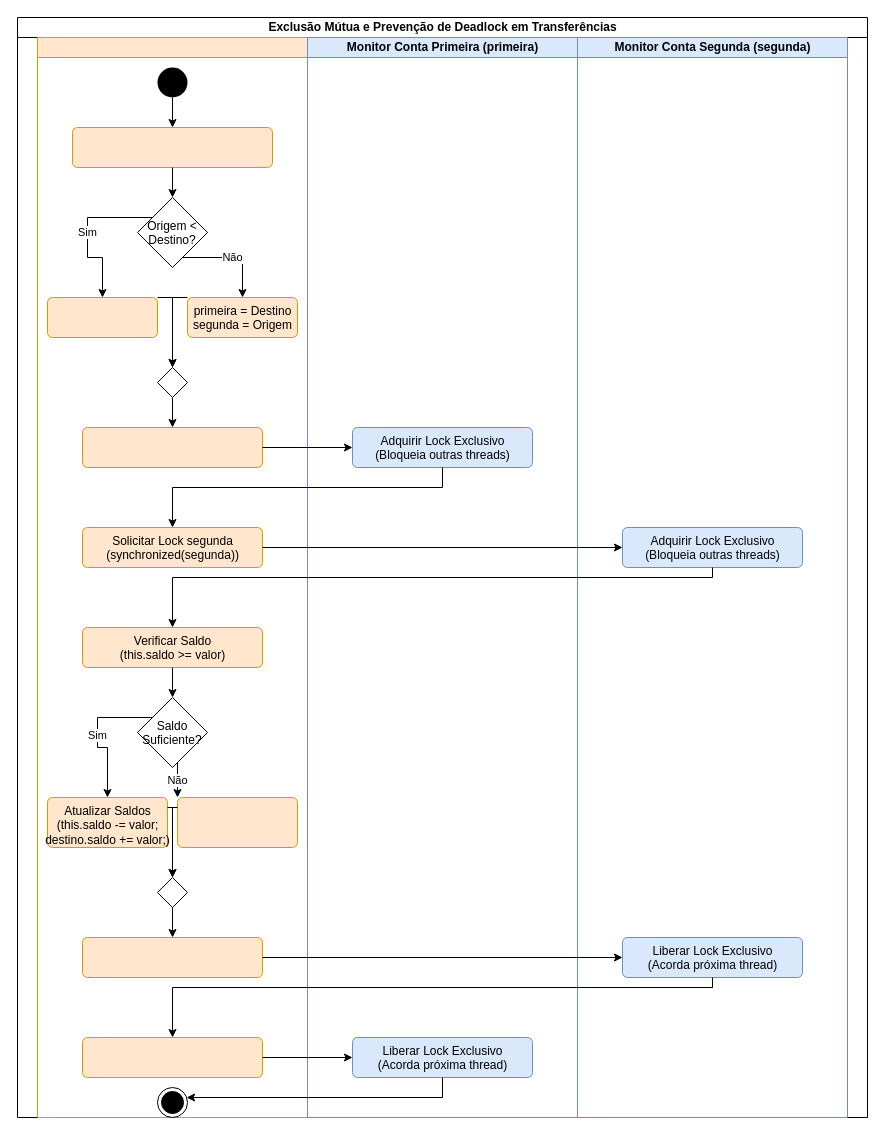
This 885x1135 diagram has some shape labels left out. Here are the shapes that lost their labels. From the top down, the box of each, then its label:
(72, 126, 272, 168): Comparar nomes das contas (this.nome.compareTo(destino.nome))
(46, 296, 158, 338): primeira = Origem segunda = Destino
(82, 426, 262, 468): Solicitar Lock primeira (synchronized(primeira))
(36, 36, 308, 1118): Thread de Transação (transferir)
(176, 796, 298, 848): Falhar Operação (Retornar erro)
(82, 936, 262, 978): Sair do synchronized (segunda)
(82, 1036, 262, 1078): Sair do synchronized (primeira)
